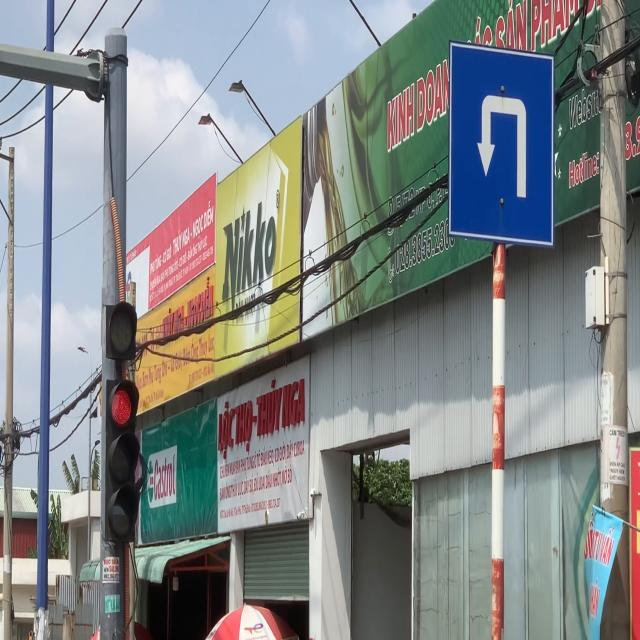Chi dan: (446, 33, 556, 252)
